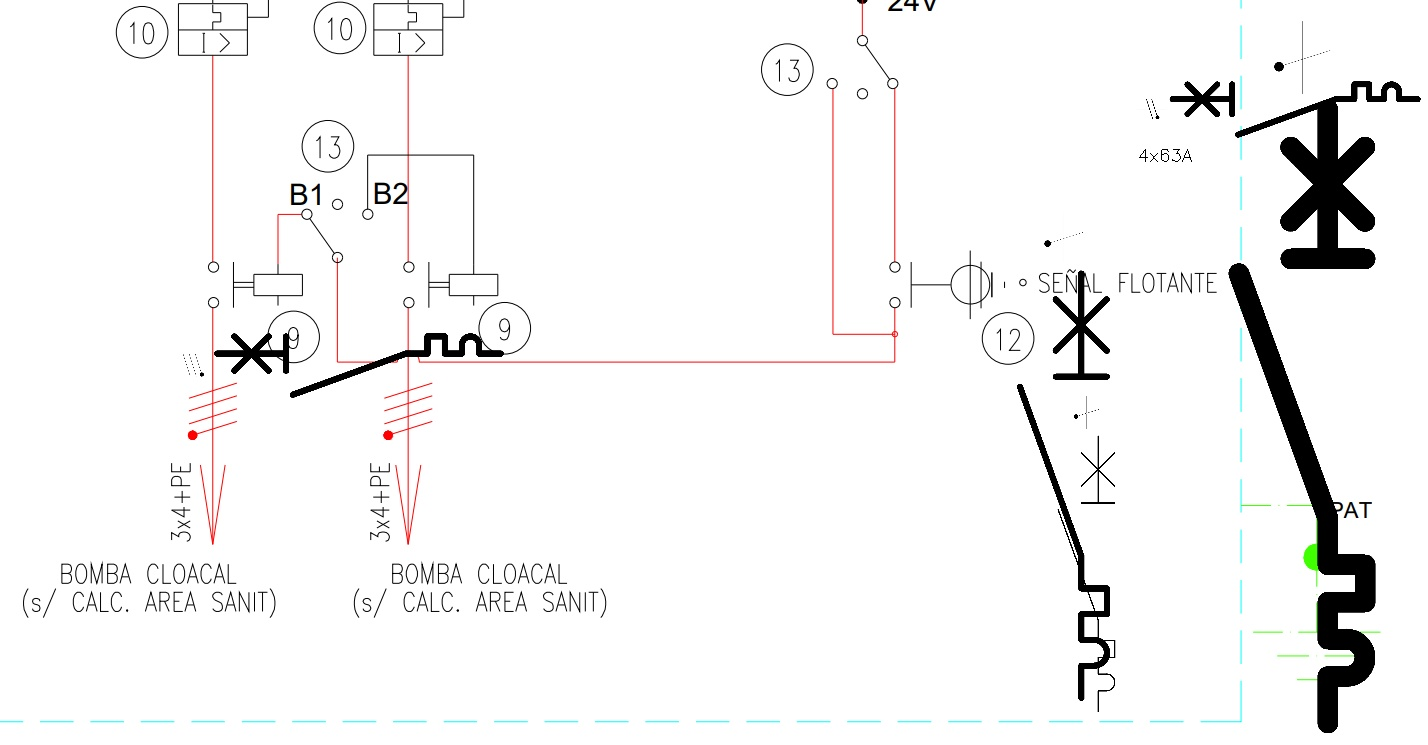interruptor_termomagnetico: (1223, 93, 1381, 738), (1009, 262, 1118, 709), (209, 329, 507, 402), (1051, 428, 1122, 719), (1166, 78, 1424, 141)
